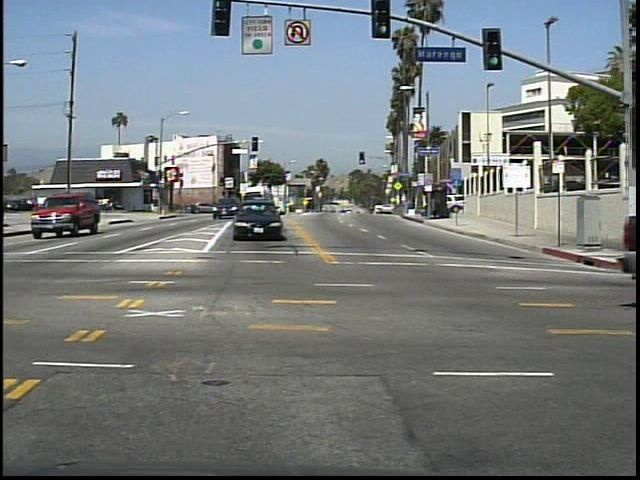person: (60, 192, 77, 220)
